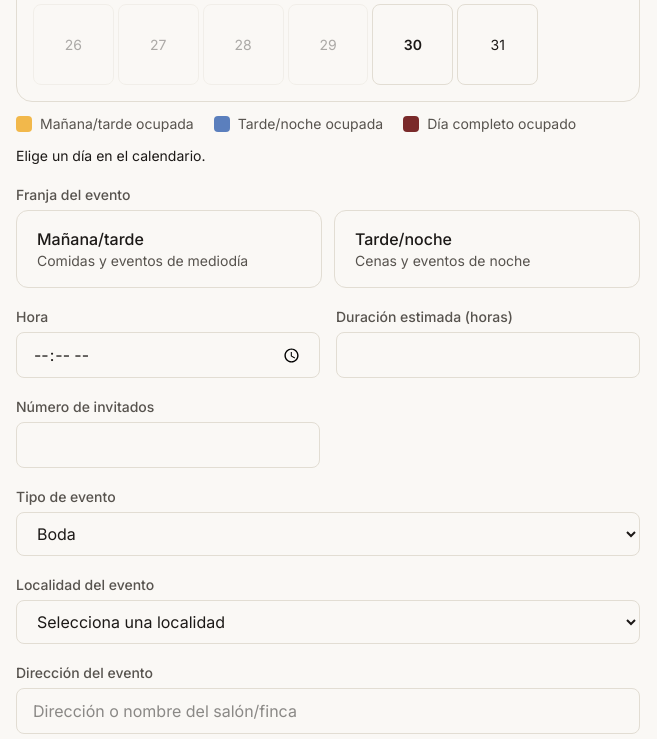
Test case: Formulario de reserva con precio (quoteMode = false) › con la duración y la localidad elegidas, pide el presupuesto y lo muestra desglosado
(page scrolled)
In the number field labelled "Duración estimada (horas)": (488, 355) x1=336 y1=332 x2=640 y2=378, type "3"
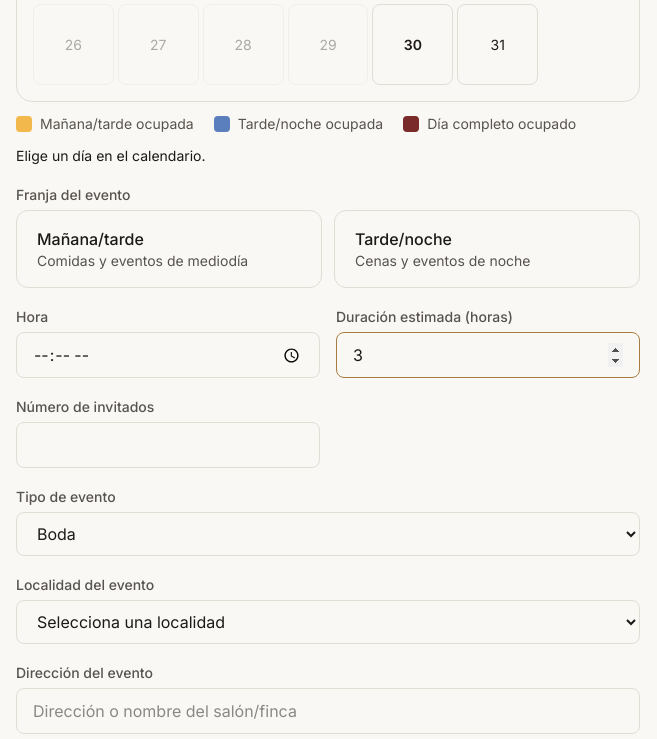
Select "Cádiz" in the dropdown labelled "Localidad del evento": (328, 622) x1=16 y1=600 x2=640 y2=644
(page scrolled)
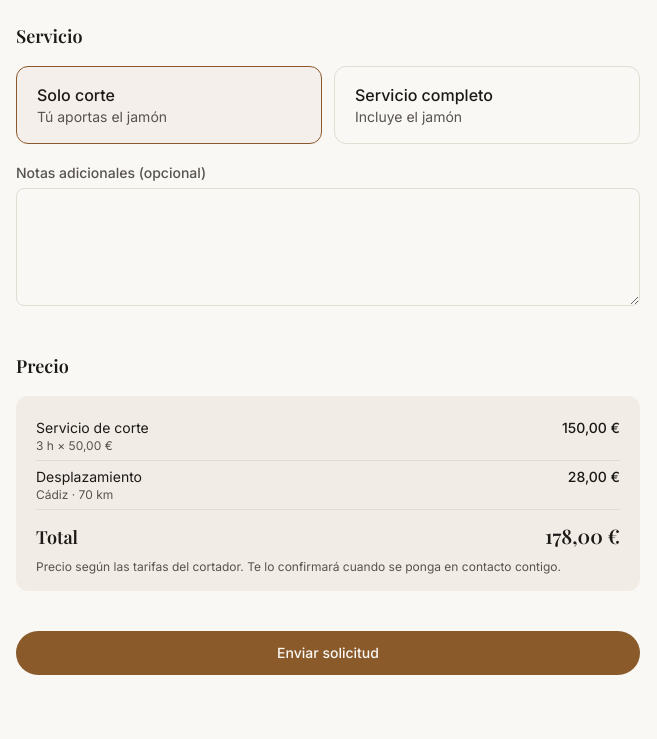
Now the text "178,00 €" is shown, box x1=545 y1=522 x2=620 y2=550
Now the text "Cádiz · 70 km" is shown, box x1=36 y1=487 x2=113 y2=502
